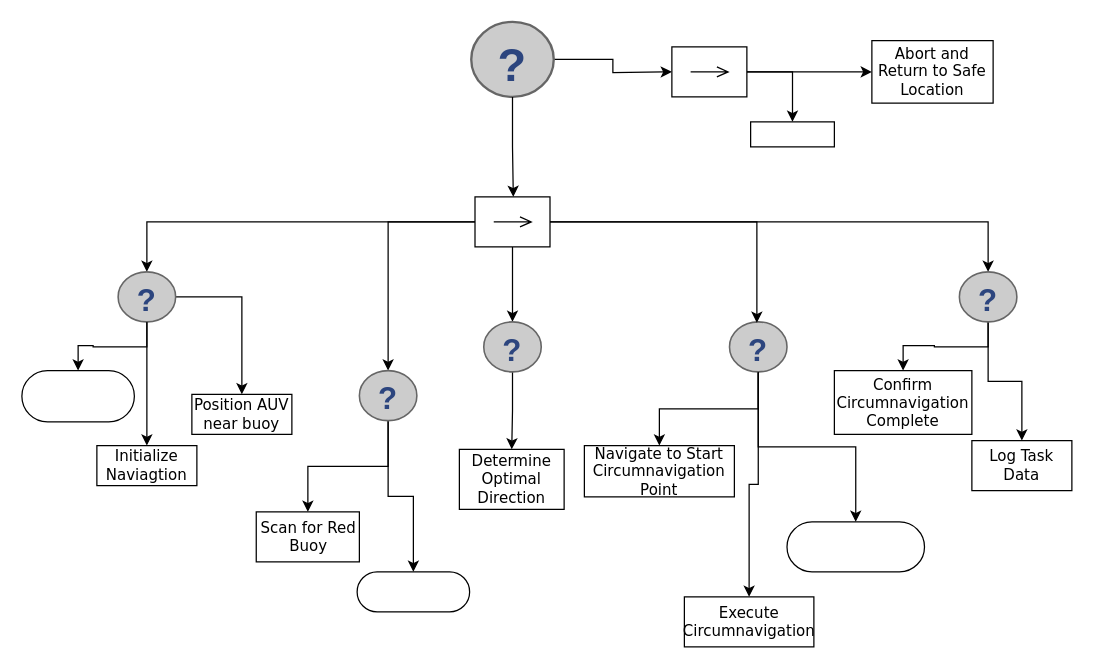
Some shapes in this 1094 by 669 pixel diagram are drawn without their labels. Here are the shapes that lost their labels. From the top down, the box of each, then its label:
(749, 121, 834, 147): Log Error
(21, 369, 134, 422): System Ready
(786, 521, 924, 572): Completed 360°
(356, 571, 470, 612): Buoy Identified
